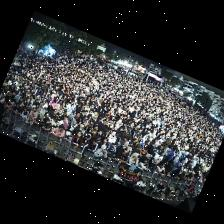person: (80, 139, 98, 161), (149, 152, 163, 171), (146, 143, 159, 159), (171, 158, 184, 173), (71, 132, 82, 149), (115, 149, 128, 163), (51, 125, 65, 137), (131, 143, 143, 157), (116, 142, 130, 153), (138, 156, 149, 170), (65, 100, 75, 115), (83, 127, 93, 142), (95, 145, 107, 157), (41, 118, 51, 132), (116, 127, 126, 141), (128, 153, 138, 166), (67, 120, 76, 134), (156, 164, 165, 177), (108, 132, 116, 146), (142, 141, 150, 155), (171, 168, 181, 179), (73, 113, 82, 125), (13, 103, 22, 115), (51, 117, 59, 130), (30, 106, 38, 119), (60, 116, 68, 129), (50, 109, 60, 119), (99, 137, 108, 148), (107, 146, 114, 160), (94, 130, 102, 142), (68, 110, 75, 123), (22, 108, 29, 121), (26, 99, 35, 109), (185, 171, 194, 181), (26, 115, 34, 126), (49, 97, 57, 108), (40, 106, 46, 118), (4, 99, 12, 108), (44, 113, 52, 122), (57, 105, 64, 115), (113, 142, 120, 152), (8, 102, 15, 112), (115, 120, 122, 130), (18, 97, 24, 108), (120, 137, 128, 145), (79, 124, 85, 134), (64, 132, 71, 140), (192, 174, 199, 182), (38, 119, 45, 127), (25, 103, 31, 112), (103, 129, 109, 137), (0, 94, 4, 105), (180, 172, 186, 179), (199, 176, 202, 183)
